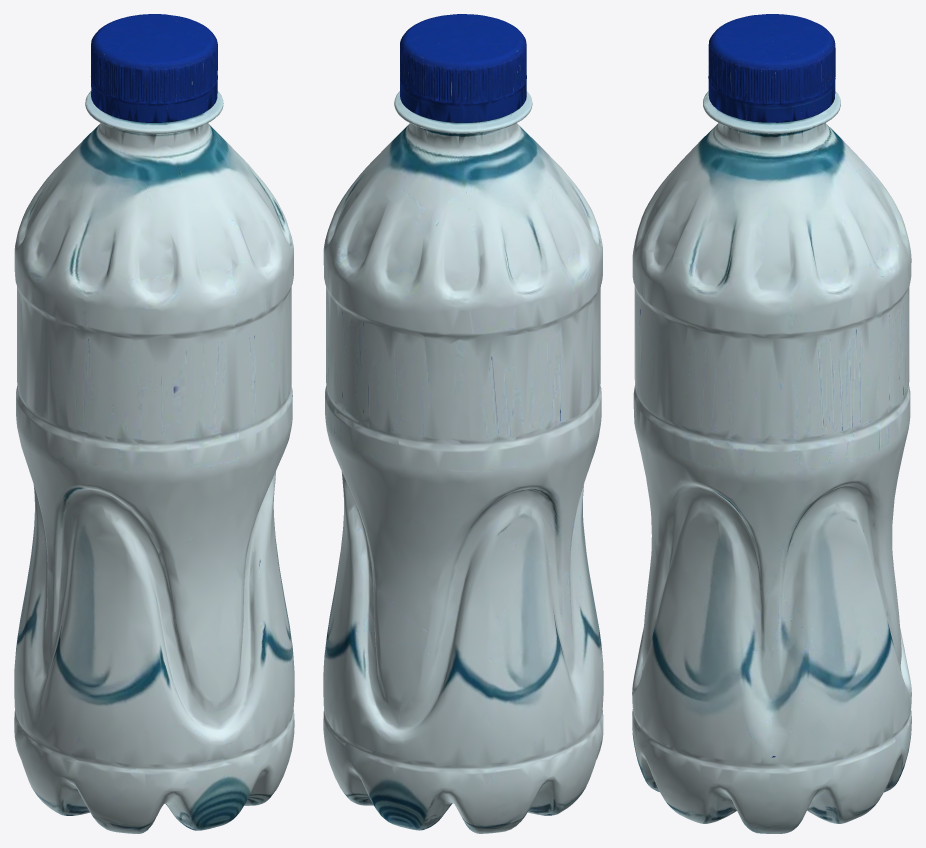
Rendered from water.glb.
The picture shows the model from 3 angles, left to right: view 1: azimuth 30°, elevation 25°; view 2: azimuth 150°, elevation 25°; view 3: azimuth 270°, elevation 25°; orthographic projection.
Bounding box in the file's own units: 0.6408 × 1.9 × 0.6406.
1 material, 1 textured.
